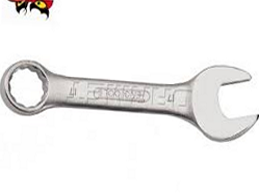Wrench: (2, 47, 259, 146)
